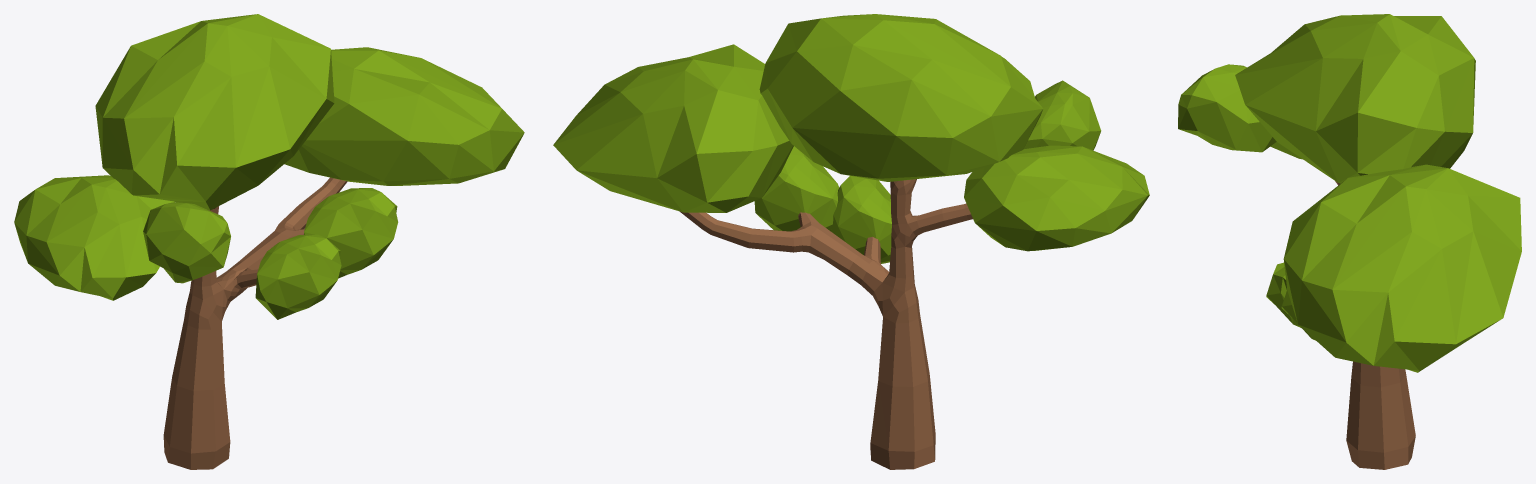
File: Tree_3.fbx
3 renders of one model, left to right at view 1: azimuth 30°, elevation 25°; view 2: azimuth 150°, elevation 25°; view 3: azimuth 270°, elevation 25°, orthographic. The views are drawn at different scales.
Parts seen in each view (by area): view 1: Tree_3_LOD0; view 2: Tree_3_LOD0; view 3: Tree_3_LOD0.
Boxes of the visible parts, box(x1,y1,x2,y2) form: Tree_3_LOD0: box(14, 14, 524, 469); Tree_3_LOD0: box(553, 14, 1149, 469); Tree_3_LOD0: box(1178, 14, 1521, 469).
Size of what is drawn, in the model's own units: 1164 by 951 by 653.
